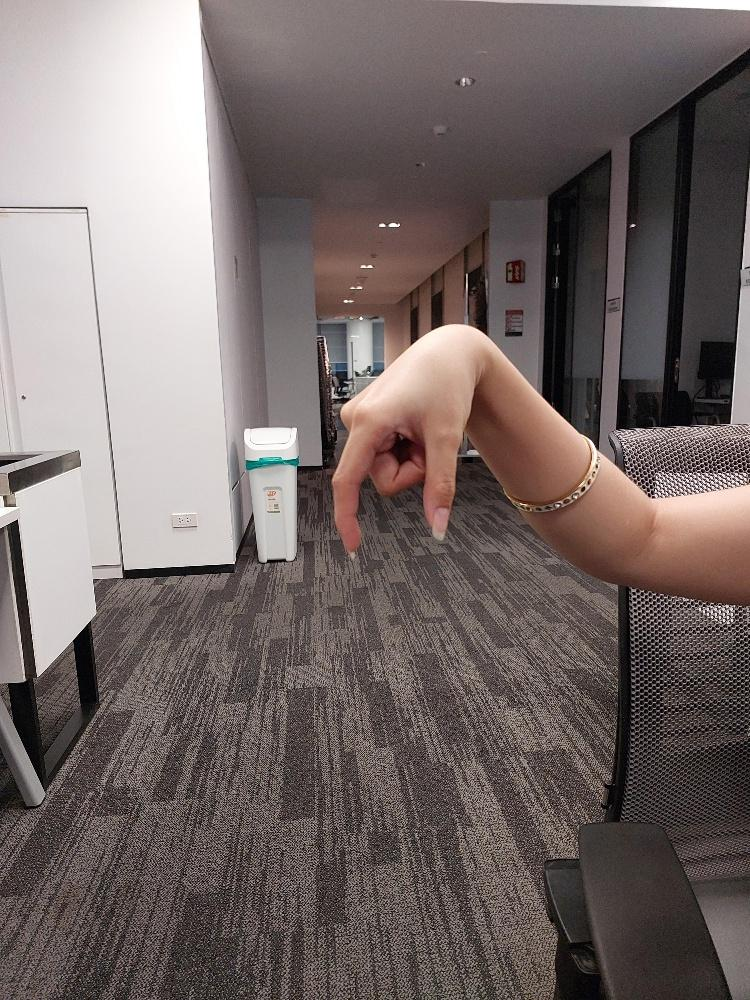q: (326, 319, 480, 564)
